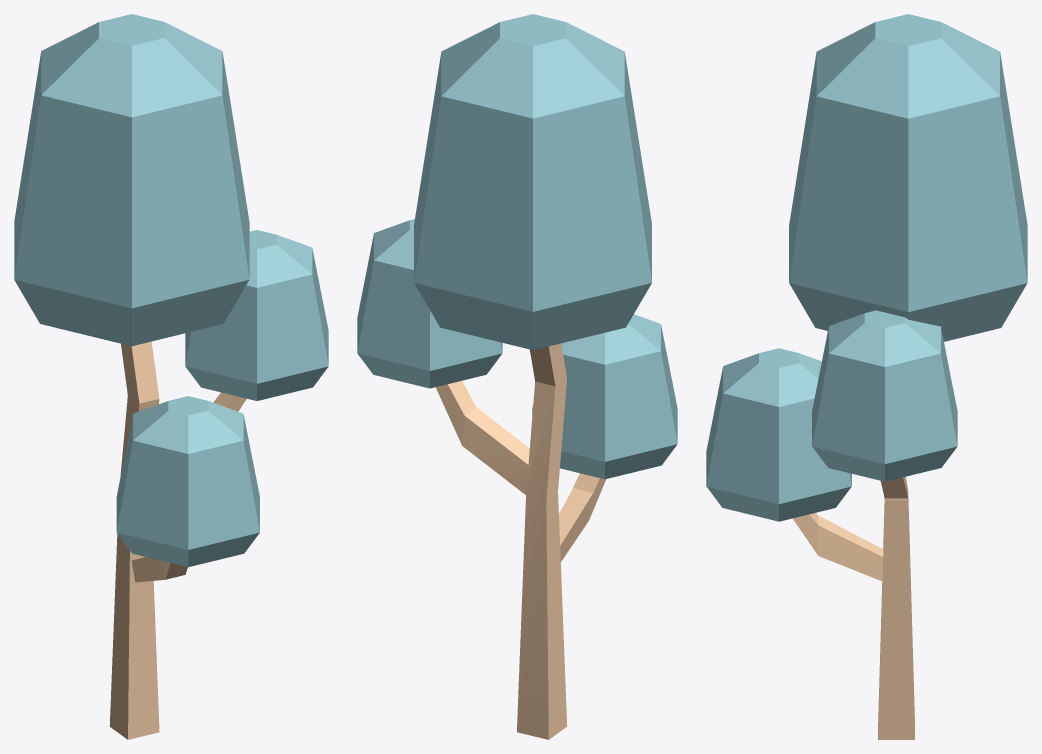
Rendered from tree_thin_dark.glb.
The picture shows the model from 3 angles, left to right: view 1: azimuth 30°, elevation 25°; view 2: azimuth 150°, elevation 25°; view 3: azimuth 270°, elevation 25°; orthographic projection.
Visible parts, largest first — view 1: tree_thin_dark; view 2: tree_thin_dark; view 3: tree_thin_dark.
Part boxes in pixels (<box>): tree_thin_dark: <box>14,14,328,739</box>; tree_thin_dark: <box>357,14,677,739</box>; tree_thin_dark: <box>706,14,1027,739</box>.
Bounding box in the file's own units: 0.6804 × 1.49 × 0.6165.
